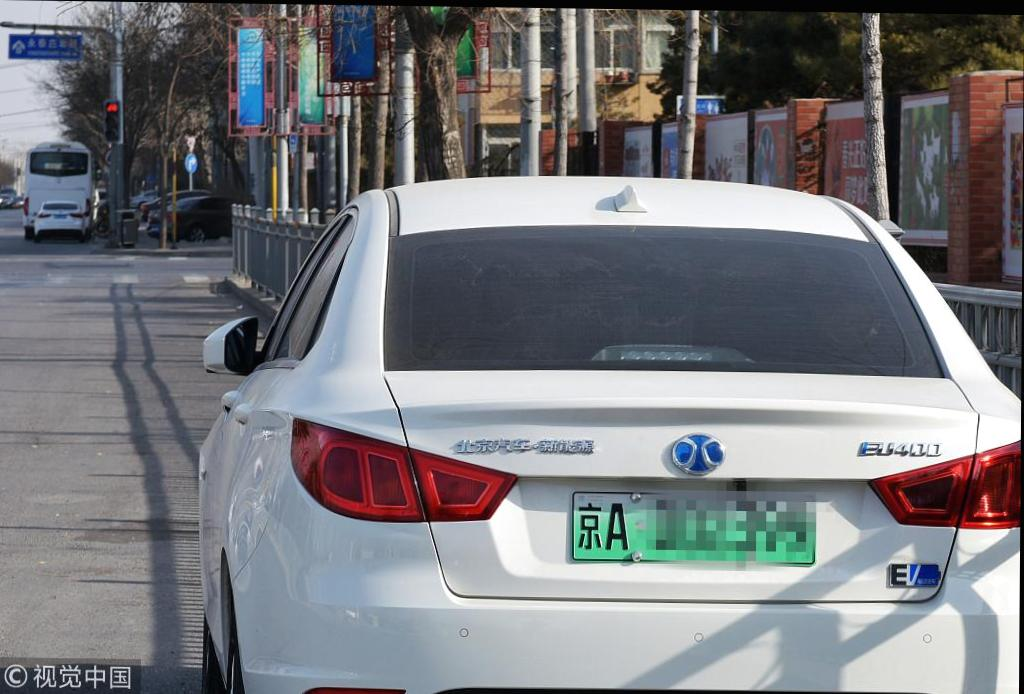License_Plate: (578, 487, 812, 570)
